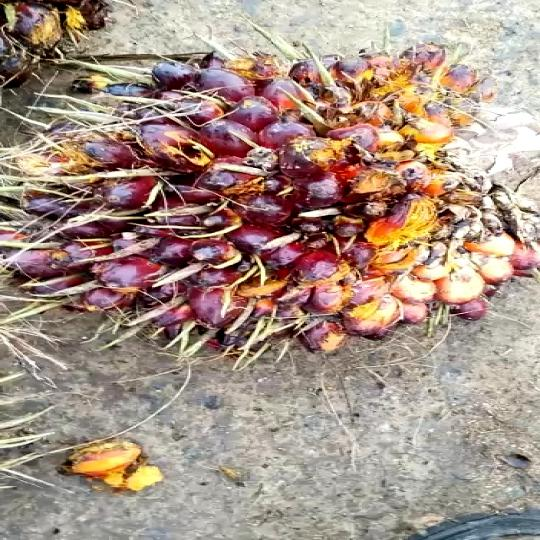masak: (0, 34, 540, 364)
